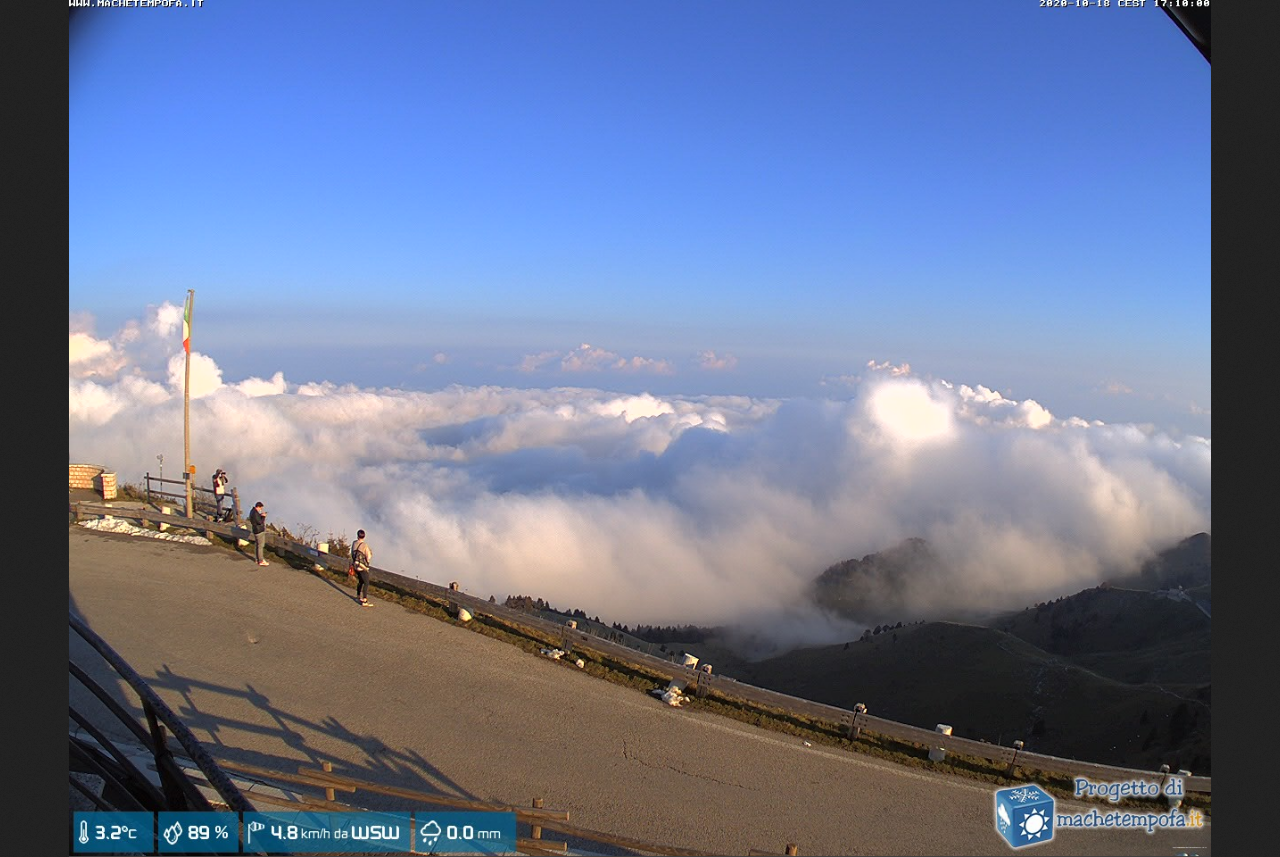no: (175, 288, 197, 355)
